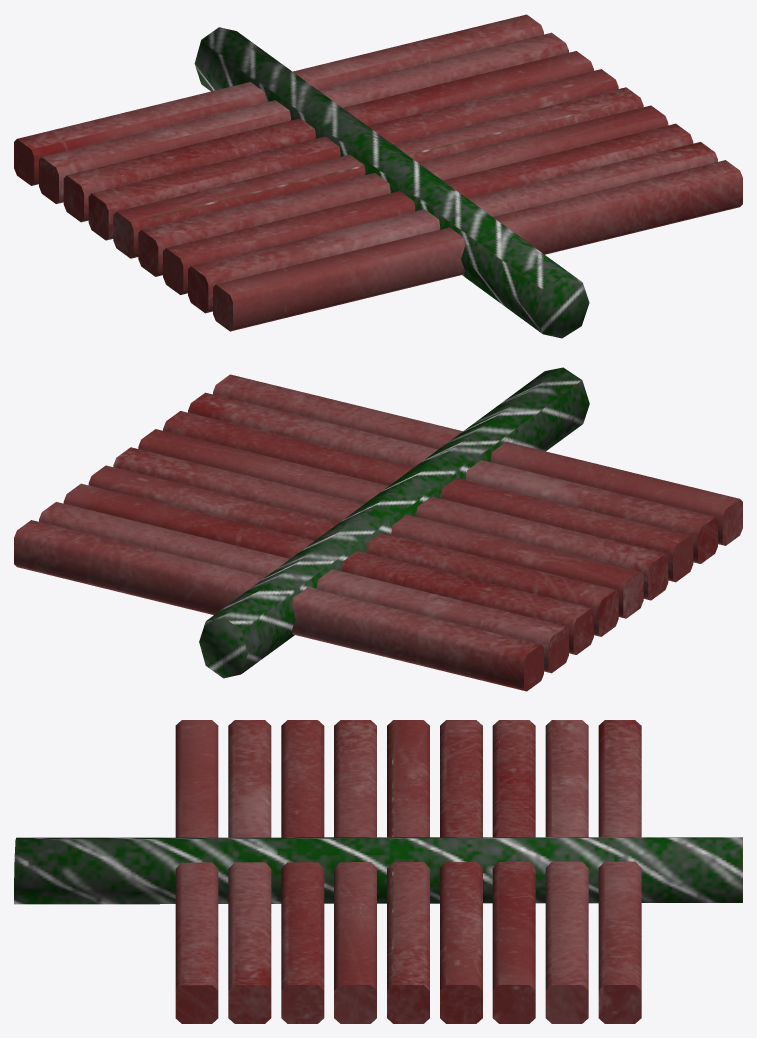
3 renders of one model, top to bottom at view 1: azimuth 30°, elevation 25°; view 2: azimuth 150°, elevation 25°; view 3: azimuth 270°, elevation 25°, orthographic. The views are drawn at different scales.
Parts seen in each view (by area): view 1: 立方体; view 2: 立方体; view 3: 立方体.
Boxes of the visible parts, x1,y1,x2,y2 form: 立方体: (14,14,742,338); 立方体: (14,367,742,691); 立方体: (14,720,742,1023).
Bounding box in the file's own units: 39.61 × 4.54 × 46.1.
